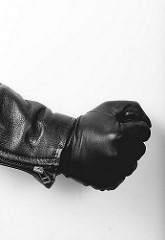fist: (75, 100, 154, 192)
